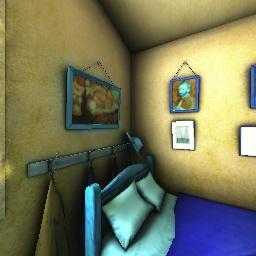bed: (76, 157, 256, 256)
